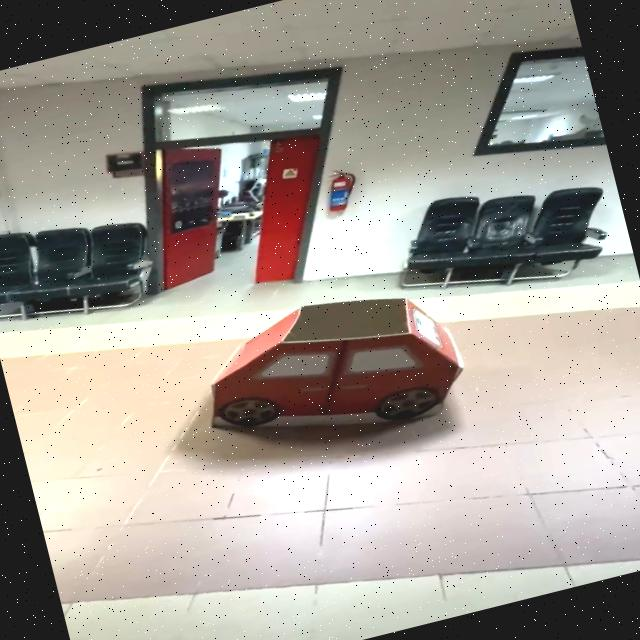red_car: (155, 245, 511, 494)
